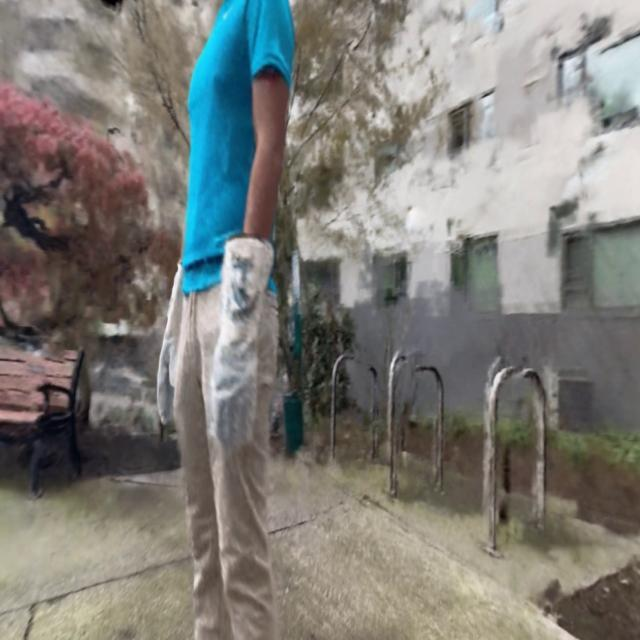gloves: (213, 230, 276, 454), (152, 262, 192, 443)
